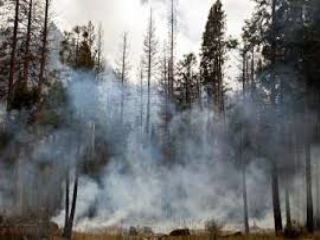smoke: (50, 59, 244, 142), (55, 146, 229, 230)
